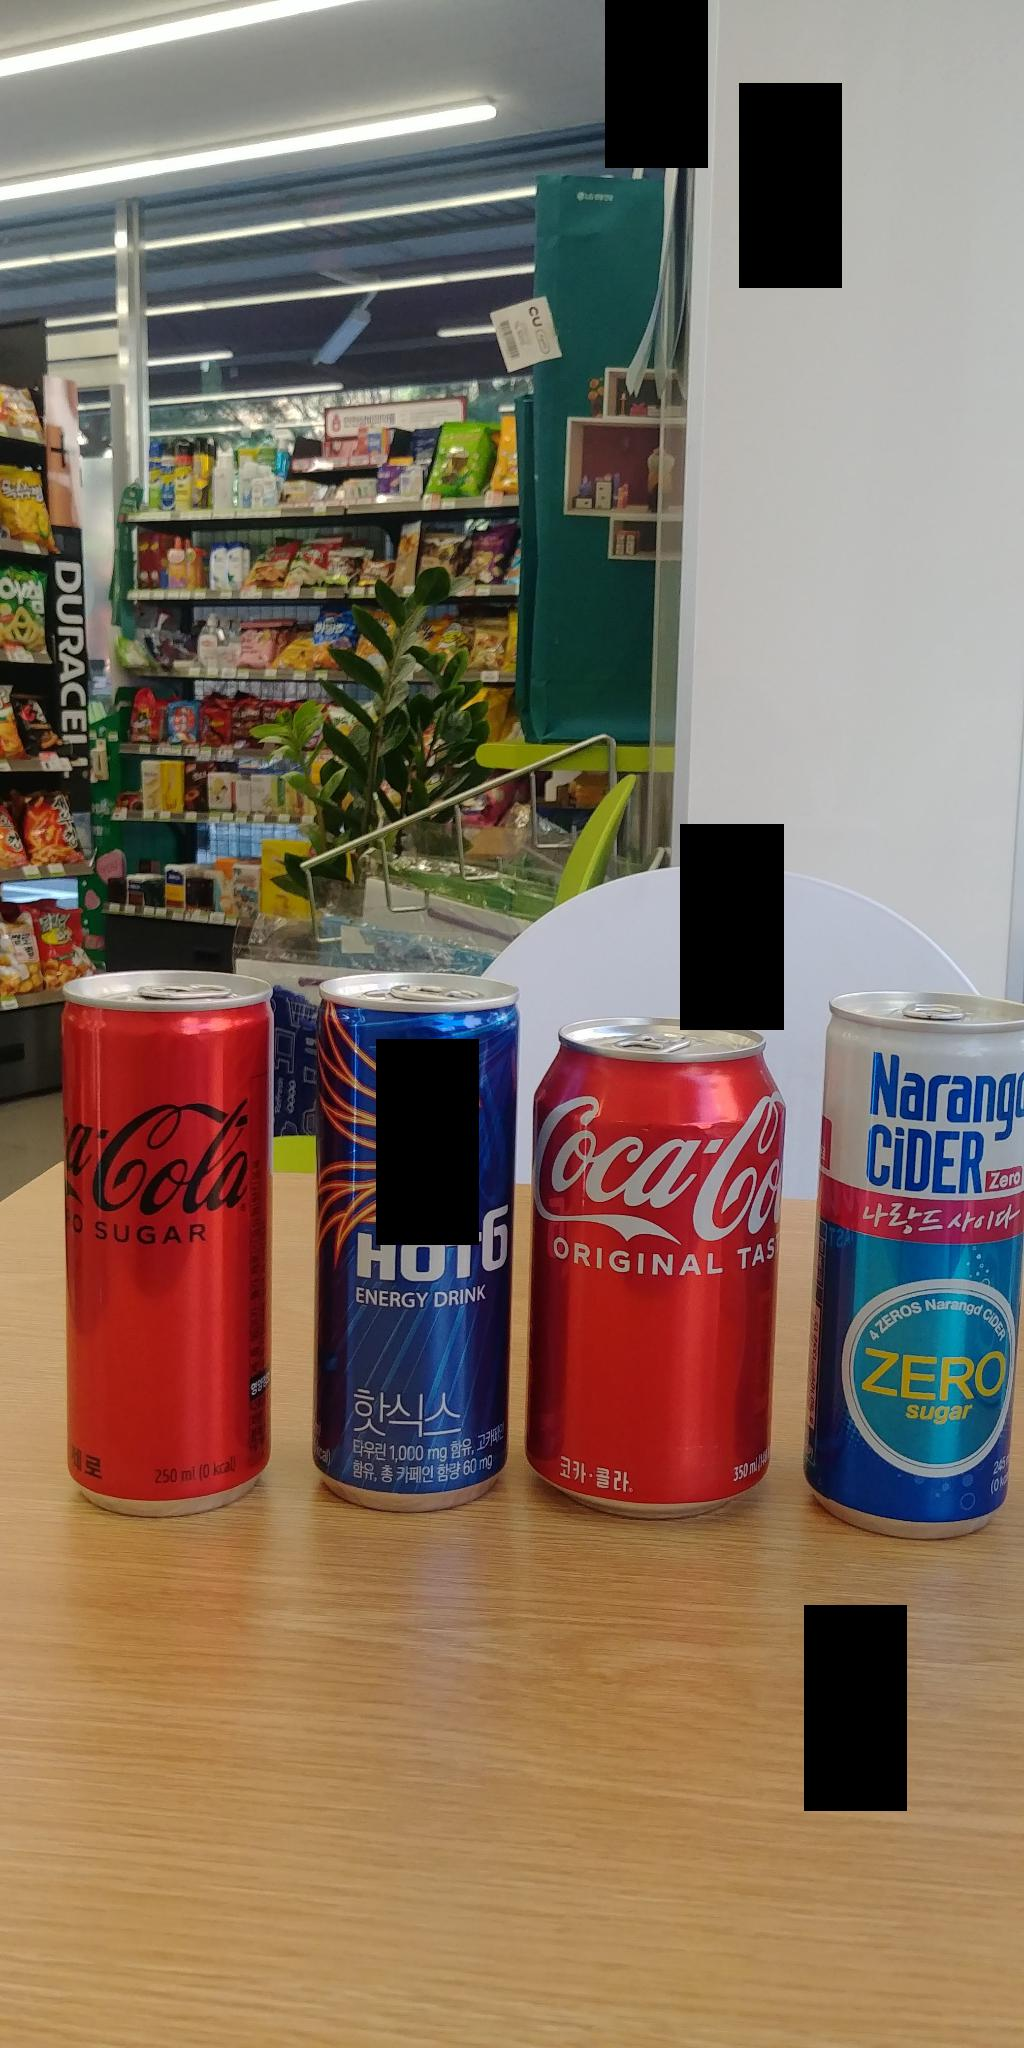cocacola: (543, 1020, 790, 1509)
hotsix_org: (298, 970, 522, 1526)
narangdcider: (819, 980, 1023, 1541)
